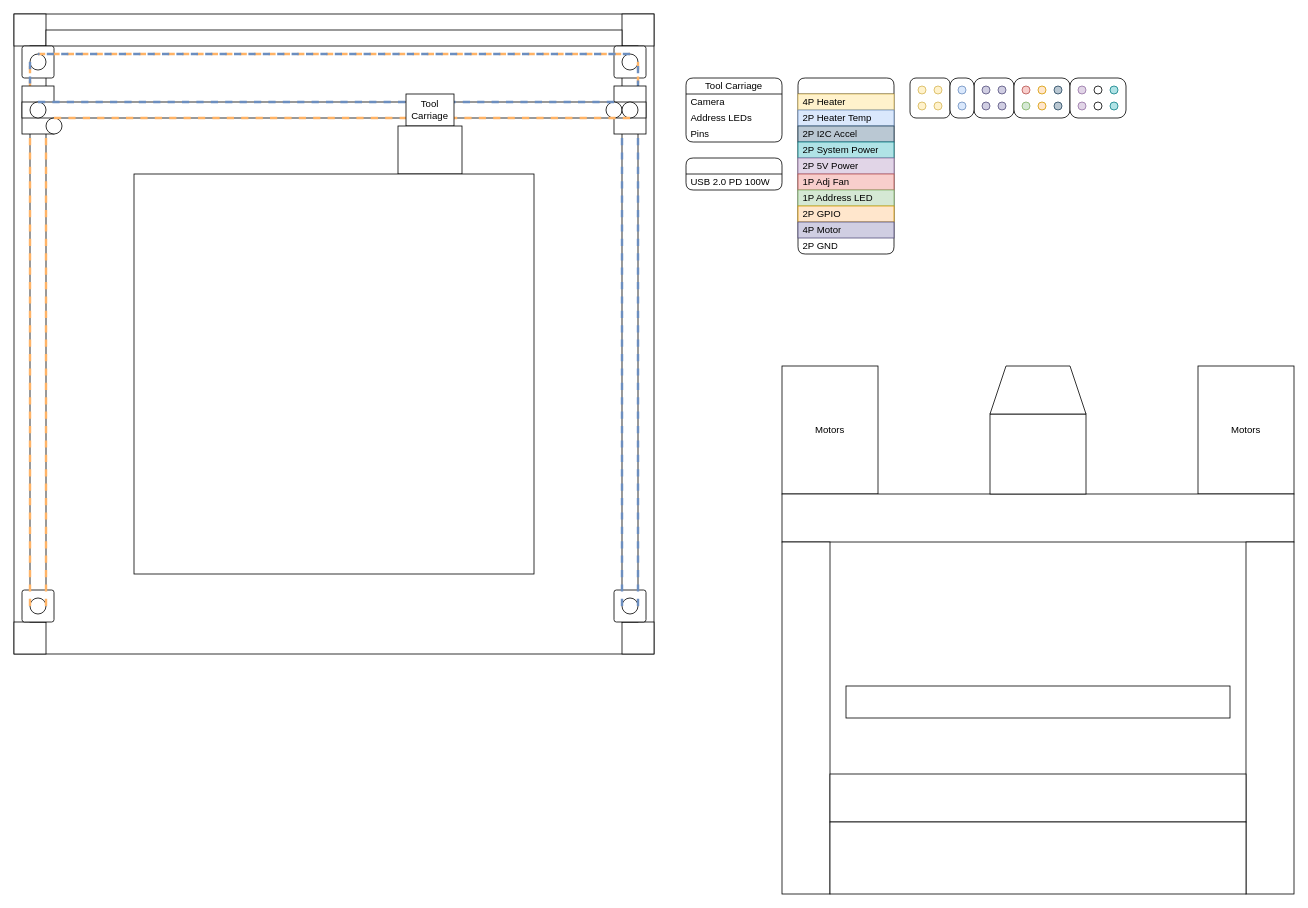
Some shapes in this 1308 by 908 pixel diagram are drawn without their labels. Each missing label, with the box of its shape:
Bed Size: 580 x 560mm Actual Heated Area: 500 x 500mm: (133, 173, 534, 574)
Electronics box: (829, 821, 1246, 894)
Inputs: (685, 157, 782, 190)
Moving Bed: (845, 685, 1230, 718)
Print Head: (989, 413, 1086, 494)
Tool Carriage Pins: (797, 77, 894, 254)
Tool Head: (397, 125, 462, 174)
